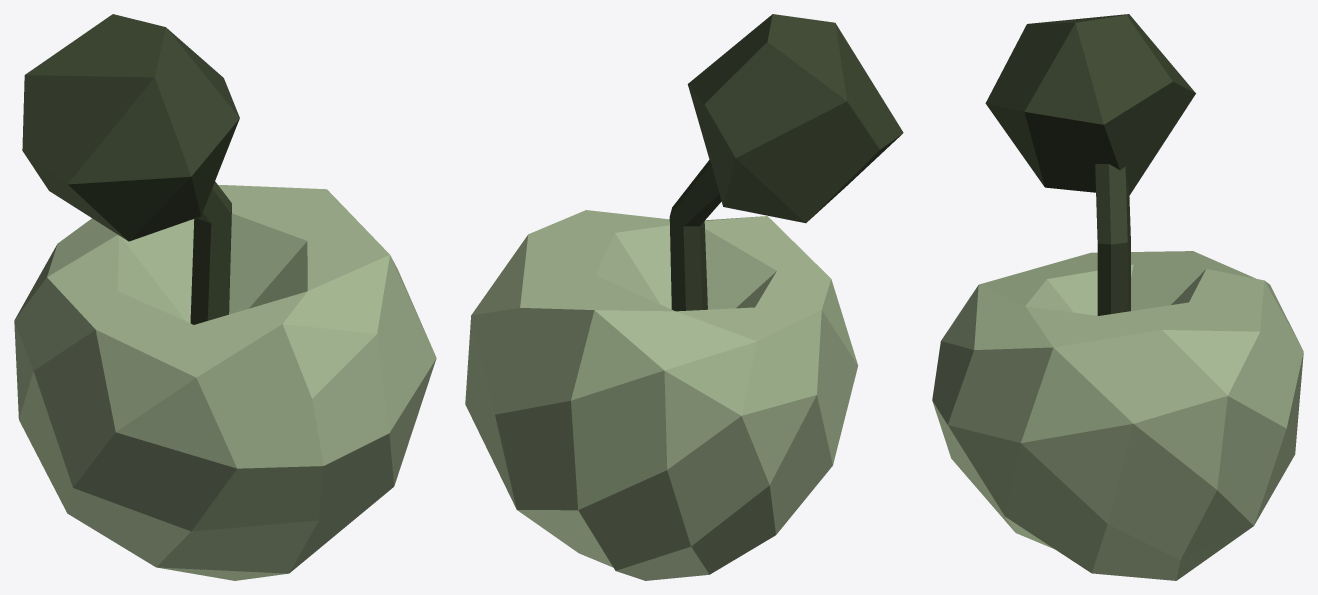
The model's file is EA_Swamp_Fruit_03a.glb.
3 renders of one model, left to right at view 1: azimuth 30°, elevation 25°; view 2: azimuth 150°, elevation 25°; view 3: azimuth 270°, elevation 25°, orthographic. The views are drawn at different scales.
Parts seen in each view (by area): view 1: EA_Swamp_Fruit_03a; view 2: EA_Swamp_Fruit_03a; view 3: EA_Swamp_Fruit_03a.
Part boxes in pixels (x1=…): EA_Swamp_Fruit_03a: x1=14, y1=14, x2=436, y2=580; EA_Swamp_Fruit_03a: x1=465, y1=14, x2=903, y2=580; EA_Swamp_Fruit_03a: x1=932, y1=14, x2=1303, y2=580.
Bounding box in the file's own units: 0.3098 × 0.4411 × 0.2908.
Materials: 1 (1 with a texture image).
